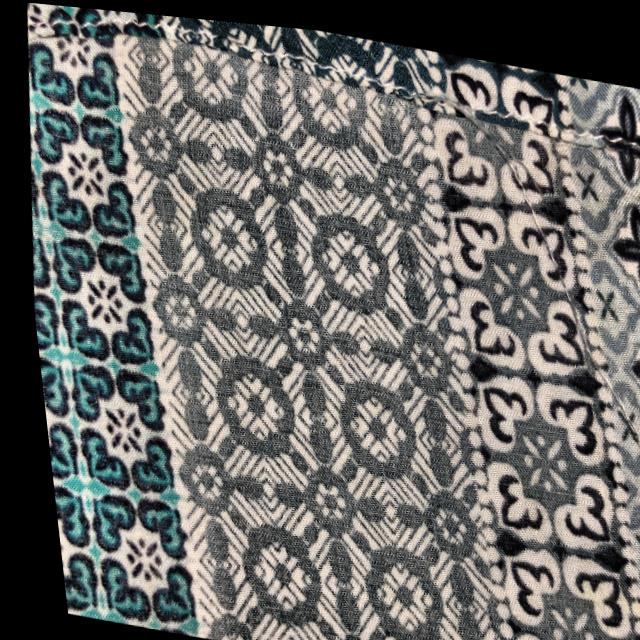Stitch: (383, 70, 640, 517)
